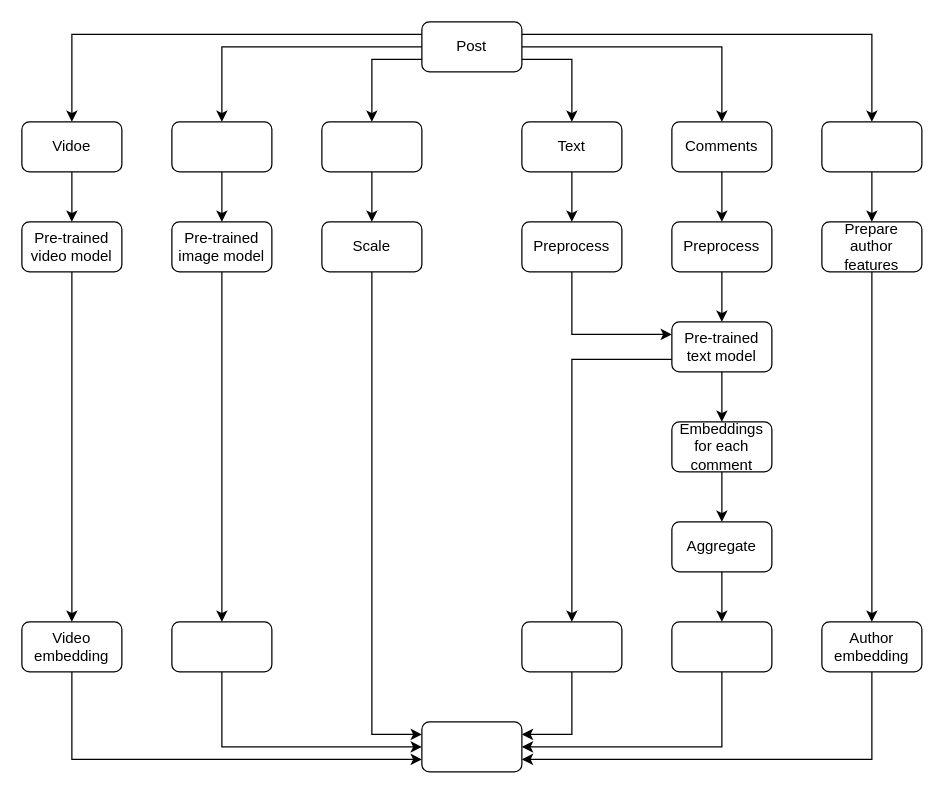
The diagram is 944 pixels wide and 794 high, and some of its shapes have lost their labels. The box of each missing label's shape, as (x1, y1, x2, y2) in pixels:
Author: (821, 121, 922, 172)
Final comments embedding: (671, 621, 772, 672)
Fused features: (421, 721, 522, 772)
Image: (171, 121, 272, 172)
Image embedding: (171, 621, 272, 672)
Number of repots, likes, comments: (321, 121, 422, 172)
Text embedding: (521, 621, 622, 672)
